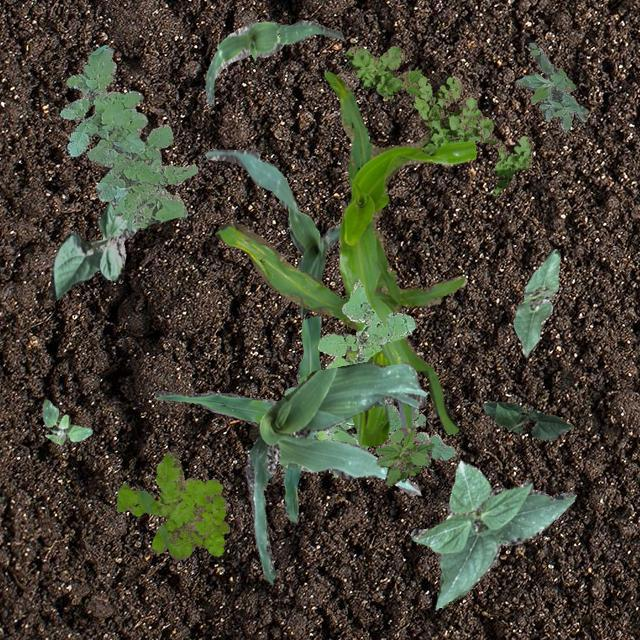crop: (214, 70, 476, 446), (244, 360, 426, 584), (152, 314, 320, 522), (410, 459, 576, 608), (203, 148, 339, 316), (204, 18, 342, 102), (48, 202, 138, 300), (512, 248, 560, 356), (481, 400, 572, 440), (284, 382, 300, 396)
weed: (343, 44, 532, 194), (58, 44, 196, 228), (115, 451, 228, 558), (316, 278, 414, 368), (514, 41, 588, 130), (350, 404, 454, 459), (374, 426, 432, 484), (40, 398, 91, 444), (310, 416, 356, 444)
